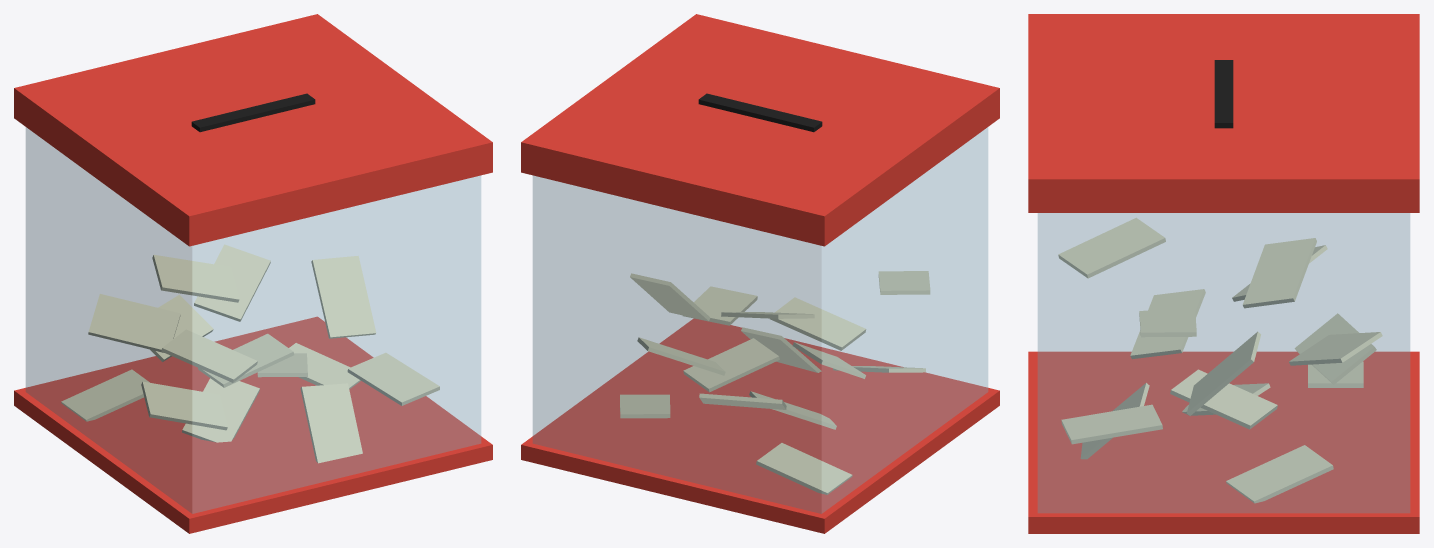
Rendered from super_raffle_urn.glb.
The picture shows the model from 3 angles, left to right: view 1: azimuth 30°, elevation 25°; view 2: azimuth 150°, elevation 25°; view 3: azimuth 270°, elevation 25°; orthographic projection. The views are drawn at different scales.
Parts seen in each view (by area): view 1: glass_urn_glass, lid_urn_lid, base_urn_lid, coupons_coupon_paper (×14), slot_urn_slot; view 2: glass_urn_glass, lid_urn_lid, base_urn_lid, coupons_coupon_paper (×13), slot_urn_slot; view 3: glass_urn_glass, lid_urn_lid, base_urn_lid, coupons_coupon_paper (×12), slot_urn_slot.
Part boxes in pixels (x1,y1,x2,y2): glass_urn_glass: (26, 127, 480, 513); lid_urn_lid: (14, 14, 492, 246); base_urn_lid: (14, 316, 492, 533); coupons_coupon_paper (×14): (61, 244, 439, 463); slot_urn_slot: (191, 93, 315, 132); glass_urn_glass: (533, 127, 987, 513); lid_urn_lid: (521, 14, 999, 246); base_urn_lid: (521, 318, 999, 533); coupons_coupon_paper (×13): (620, 271, 930, 494); slot_urn_slot: (698, 93, 822, 132); glass_urn_glass: (1038, 213, 1409, 512); lid_urn_lid: (1028, 14, 1419, 212); base_urn_lid: (1028, 351, 1419, 533); coupons_coupon_paper (×12): (1058, 218, 1382, 503); slot_urn_slot: (1214, 60, 1233, 128).
Bounding box in the file's own units: 0.42 × 0.426 × 0.42.
